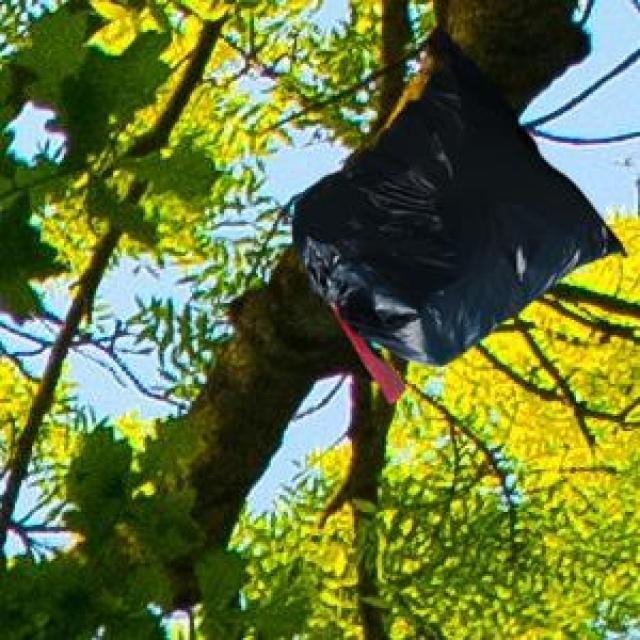Trashbag: (282, 69, 608, 366)
